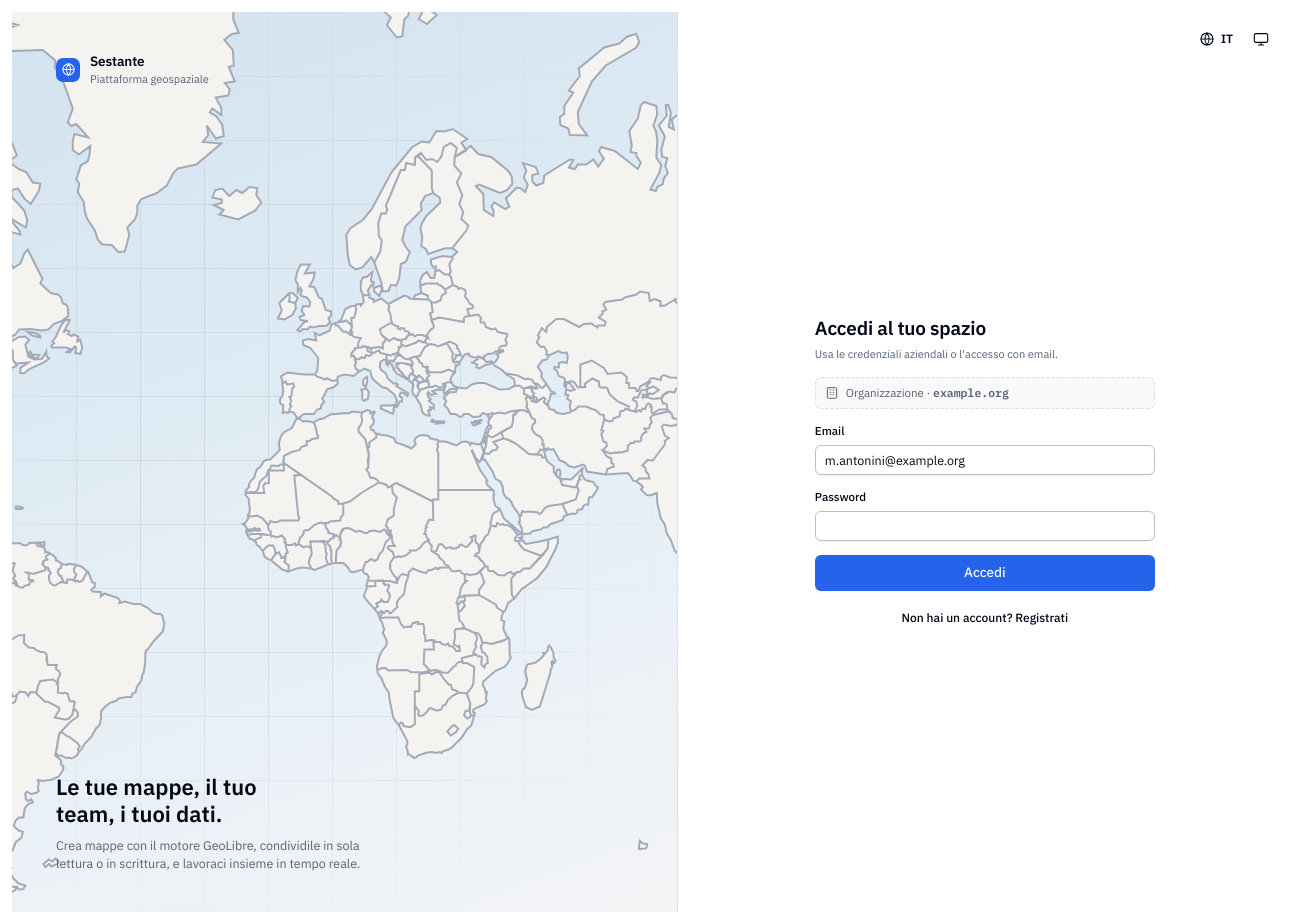
Test: schermata d'accesso › un codice d'errore sconosciuto non arriva grezzo all'utente
This screenshot has width=1292, height=912.
In the password field labelled "Password": (985, 526) [815,511,1155,541], type "x"
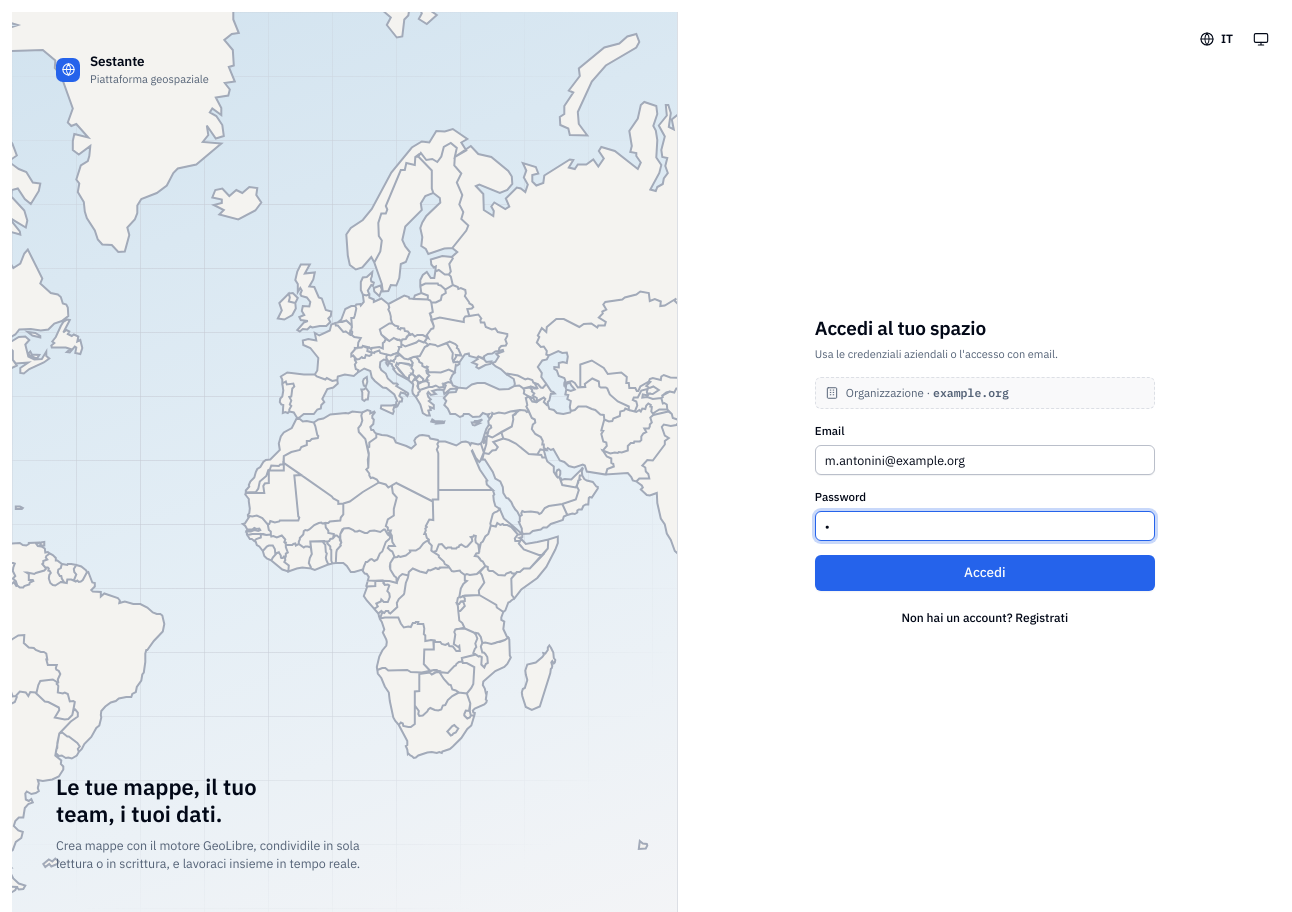
Click the button "Accedi": click(985, 573) [815,555,1155,591]
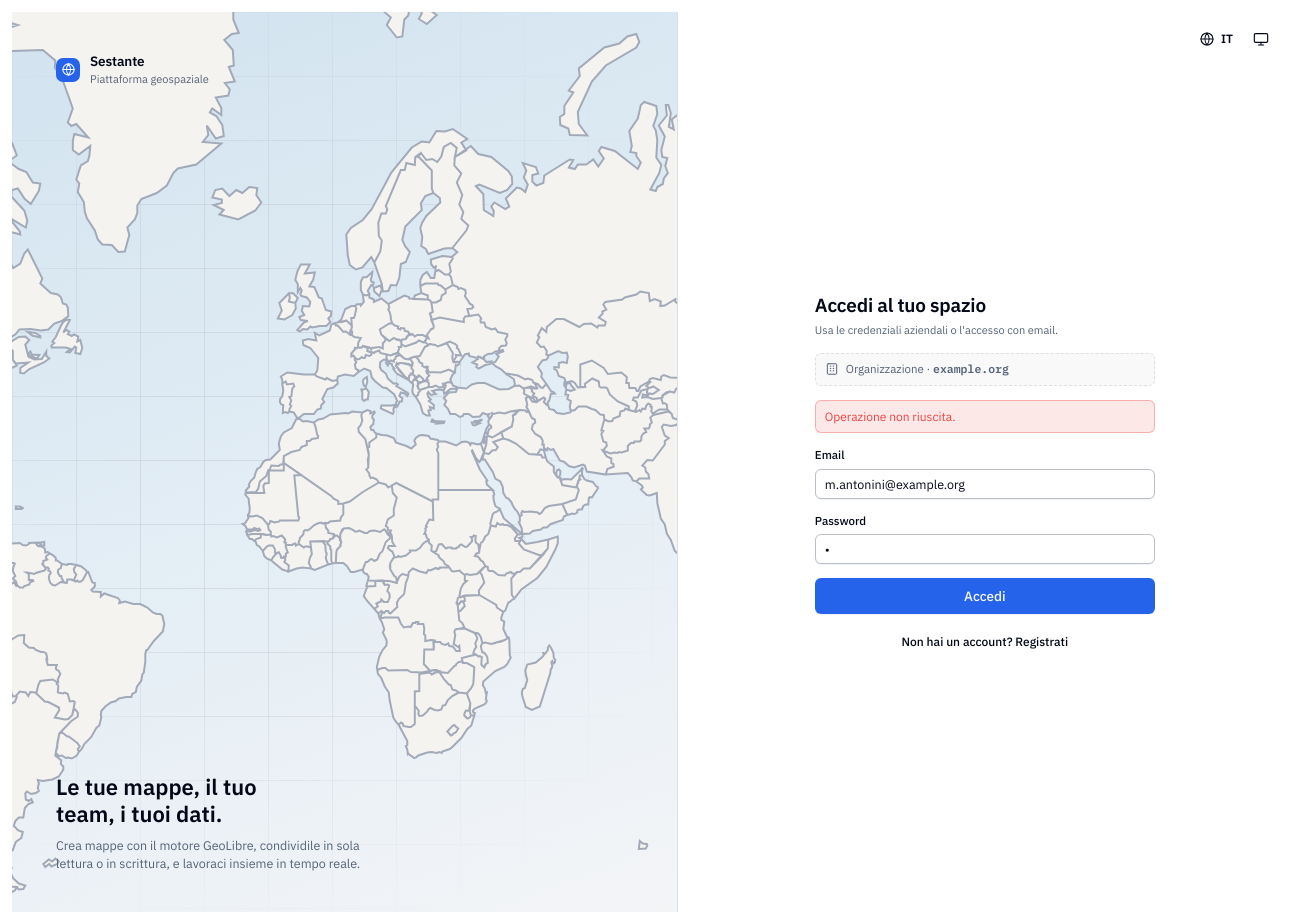
Result: the text "Operazione non riuscita." is shown at [815,400,1155,433]
